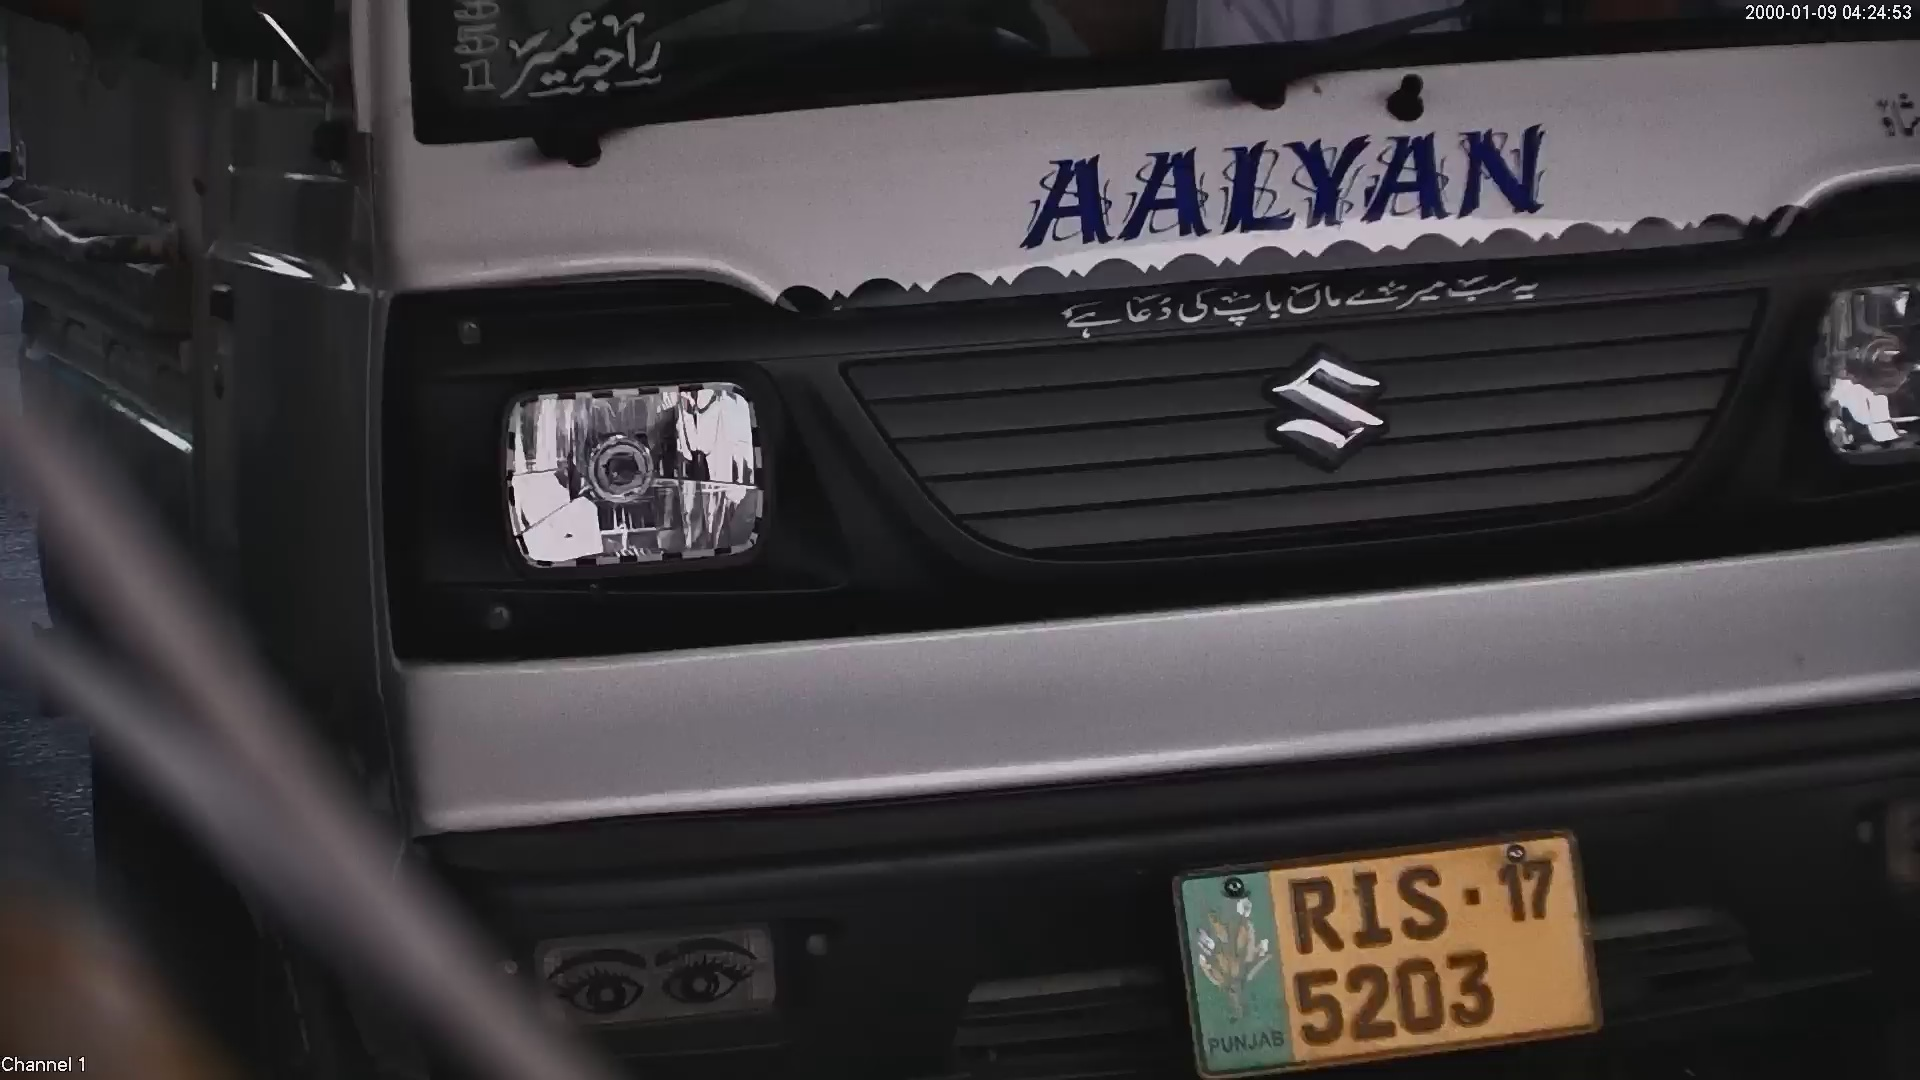Number_Plate: (1167, 820, 1617, 1064)
Undefined: (1010, 112, 1545, 227), (484, 368, 782, 573), (1034, 257, 1547, 329), (519, 912, 795, 1027), (1265, 351, 1389, 464)
